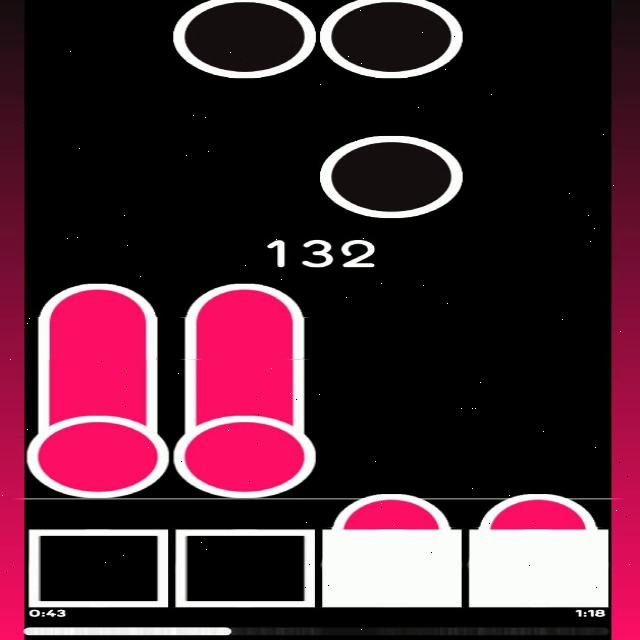end_hold: (184, 271, 309, 323), (37, 273, 159, 325), (330, 488, 456, 530), (478, 487, 602, 529)
note: (320, 130, 465, 219), (315, 0, 465, 79), (171, 0, 315, 78)
start_hold: (26, 395, 173, 500), (174, 394, 320, 499)
